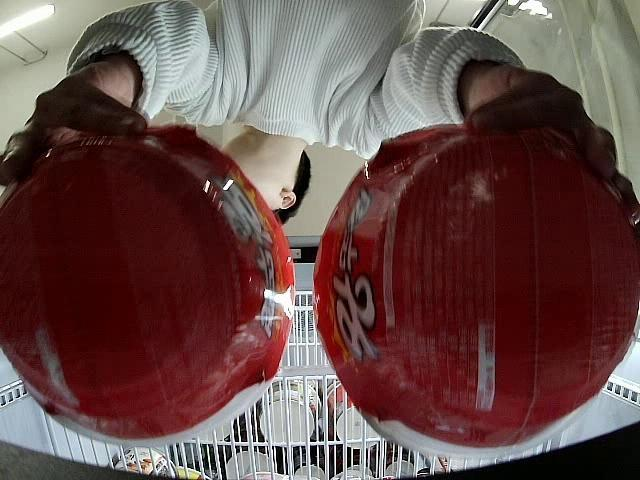10_wangTtukkeong: (312, 125, 640, 458), (0, 122, 293, 448)
